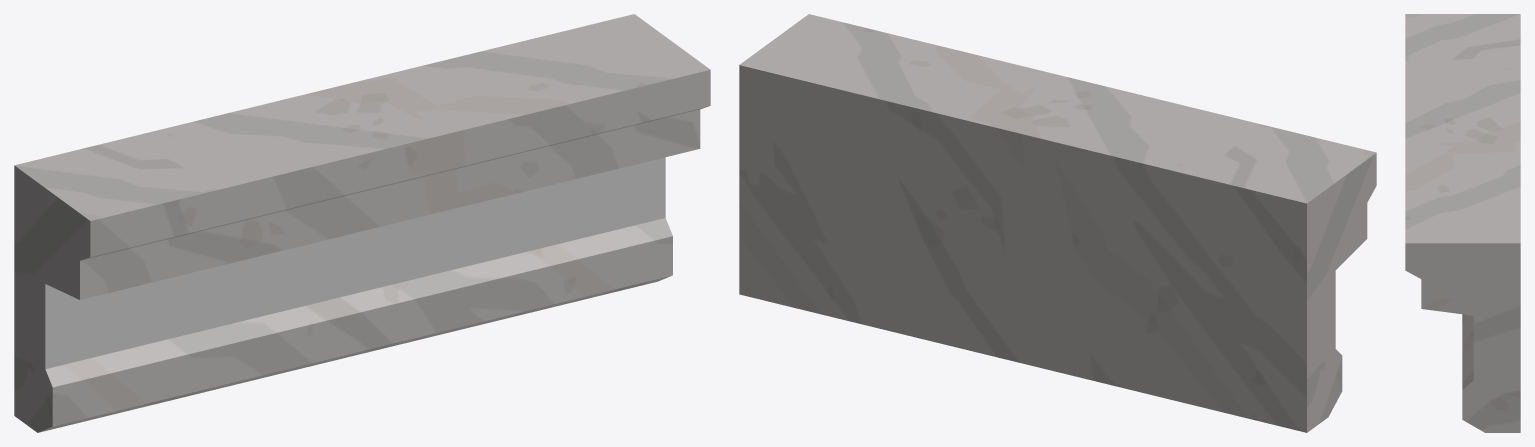
Rendered from SM_Bld_Trim_Large_Single_01.fbx.
The picture shows the model from 3 angles, left to right: view 1: azimuth 30°, elevation 25°; view 2: azimuth 150°, elevation 25°; view 3: azimuth 270°, elevation 25°; orthographic projection. The views are drawn at different scales.
Parts seen in each view (by area): view 1: SM_Bld_Trim_Large_Single_01; view 2: SM_Bld_Trim_Large_Single_01; view 3: SM_Bld_Trim_Large_Single_01.
Boxes of the visible parts, x1,y1,x2,y2 form: SM_Bld_Trim_Large_Single_01: (14,14,710,432); SM_Bld_Trim_Large_Single_01: (739,14,1376,432); SM_Bld_Trim_Large_Single_01: (1405,14,1520,432).
Size of the model in its own units: 250 by 96.49 by 53.2.
